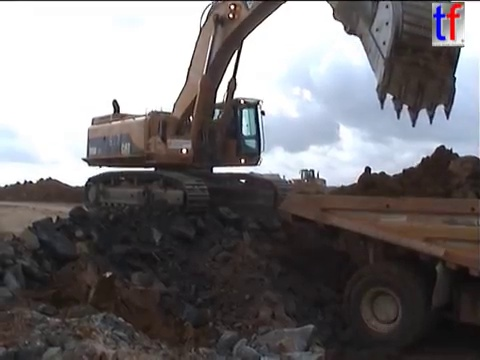excavator: (78, 1, 468, 226)
truck: (274, 180, 480, 353)
wheel loader: (275, 167, 328, 197)
